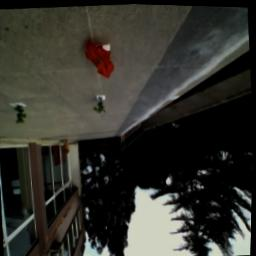herb: (14, 104, 29, 125), (94, 97, 107, 115)
wild: (86, 37, 116, 79)
